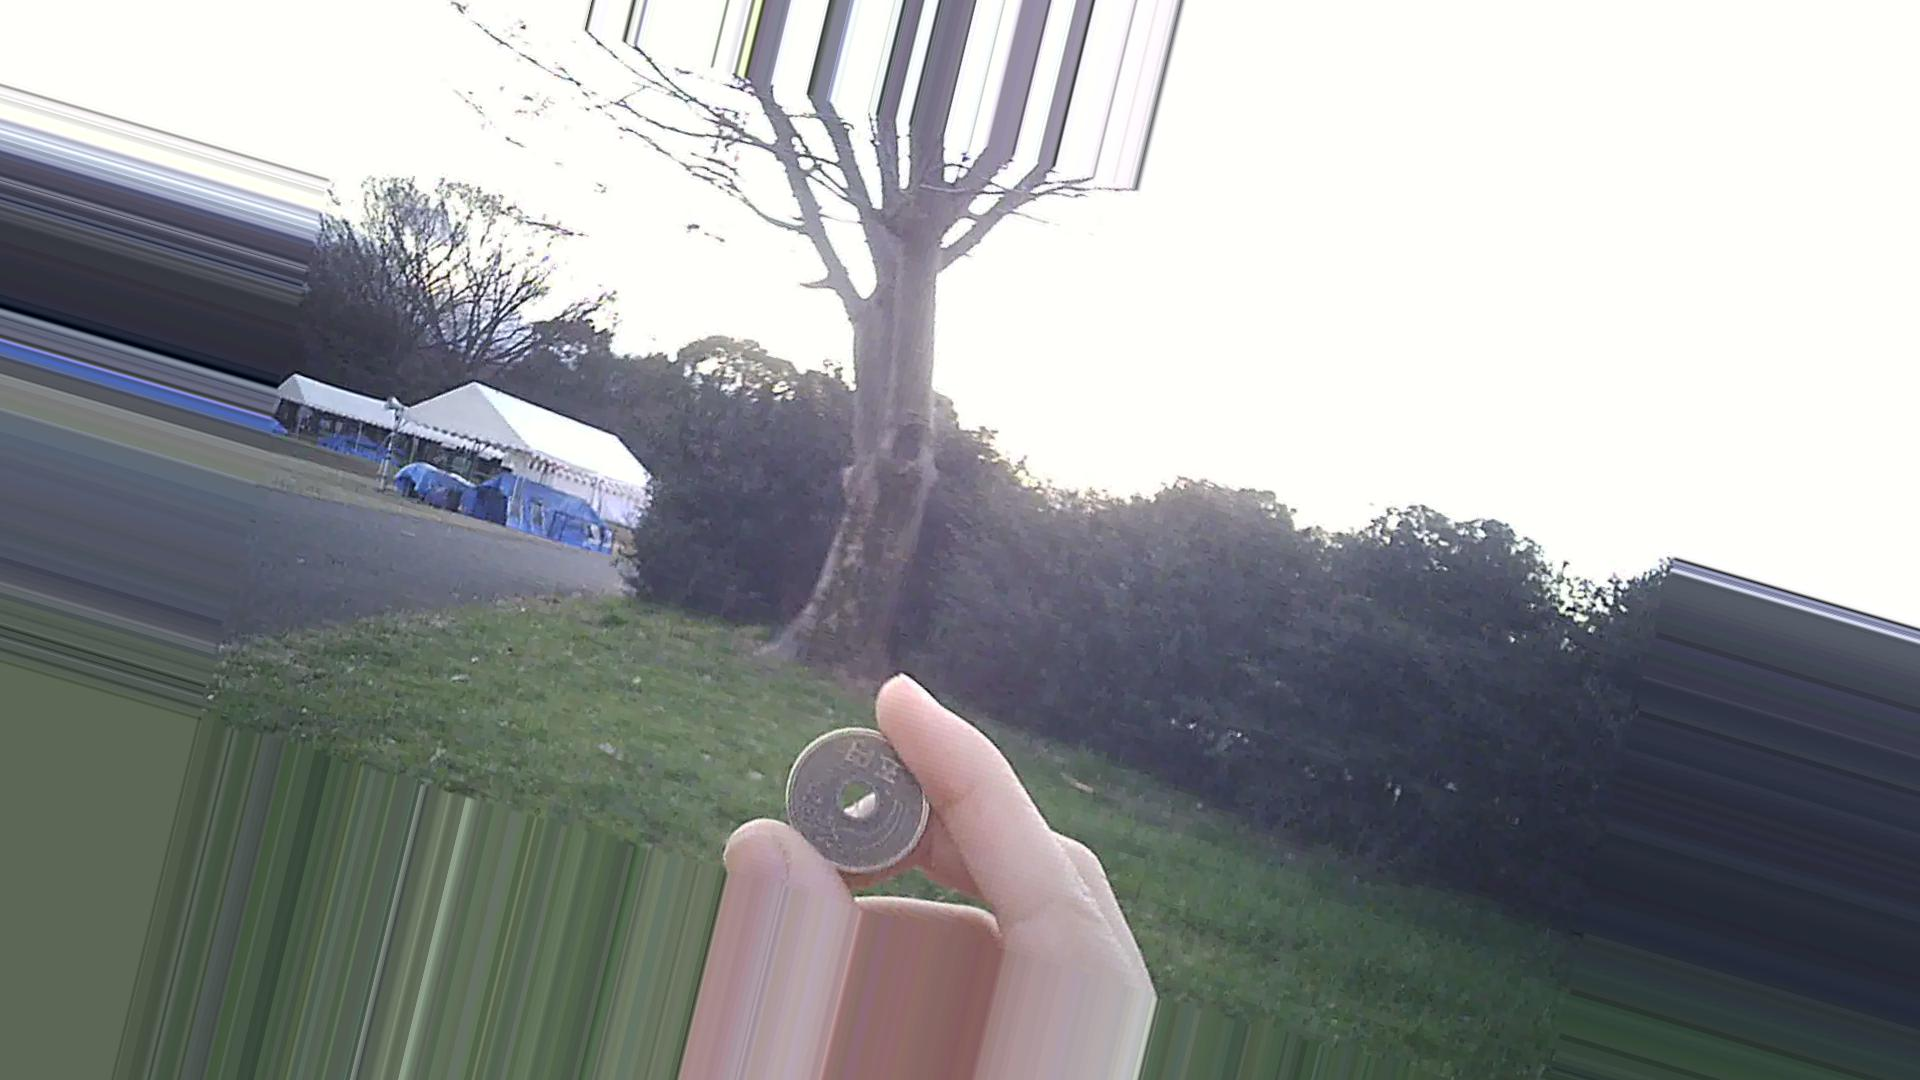5 Yen: (770, 731, 952, 891)
